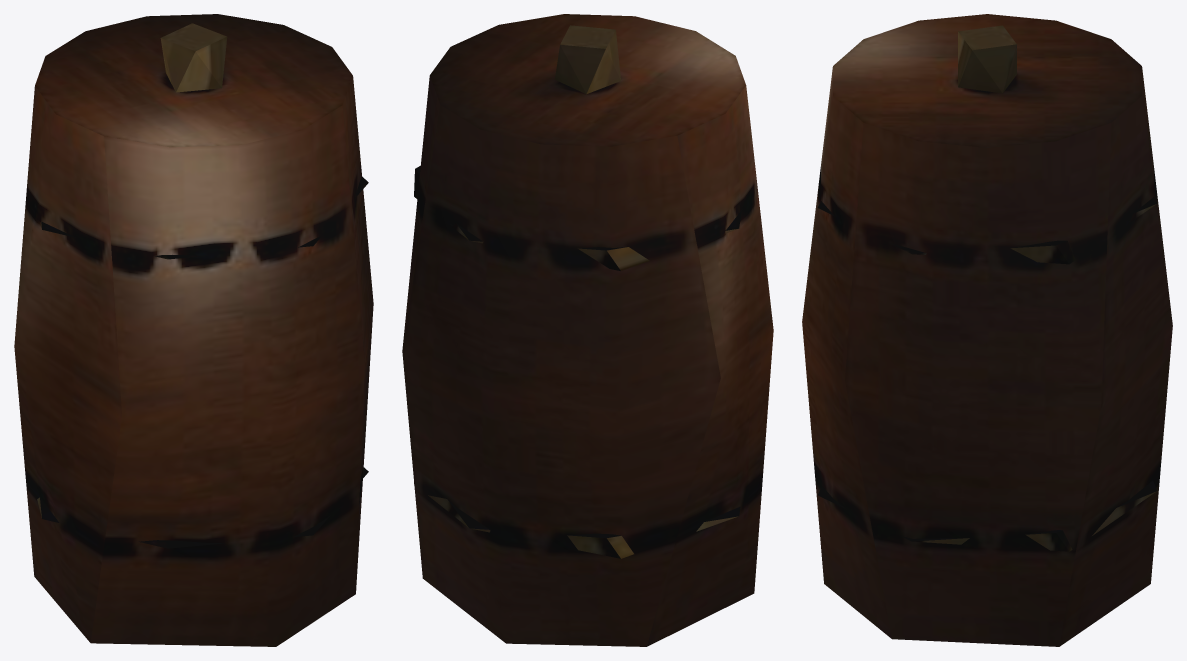
Rendered from cantina_prop_containers_D_lod1.glb.
3 views of the same model, side by side, from view 1: azimuth 30°, elevation 25°; view 2: azimuth 150°, elevation 25°; view 3: azimuth 270°, elevation 25° (orthographic).
Visible parts, largest first — view 1: cantina_prop_containers_D; view 2: cantina_prop_containers_D; view 3: cantina_prop_containers_D.
Part boxes in pixels (box(x1,y1,x2,y2)): cantina_prop_containers_D: box(14, 14, 373, 646); cantina_prop_containers_D: box(402, 14, 773, 646); cantina_prop_containers_D: box(802, 14, 1172, 646).
Size of the model in its own units: 0.4534 by 0.7603 by 0.4677.
Materials: 1 (1 with a texture image).
